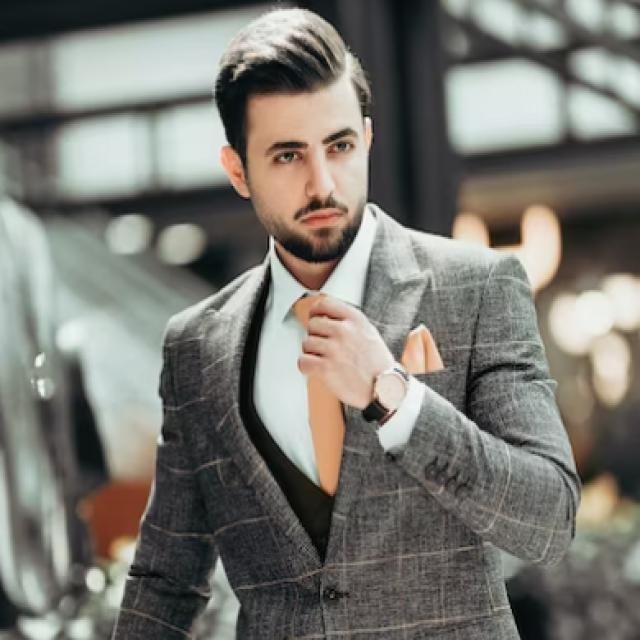Watch: (358, 362, 410, 429)
